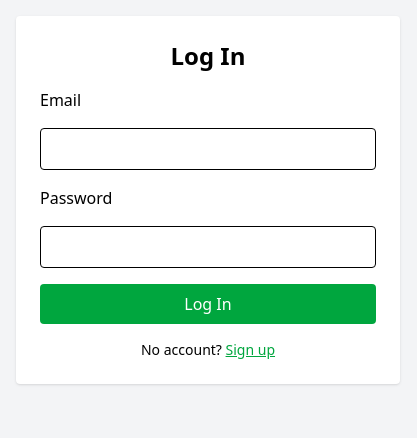
Test: auth flow › shows an error for invalid login credentials
Type "nobody@example.com" into the field with test id "auth-login-email" at (208, 149), box x1=40 y1=128 x2=376 y2=170
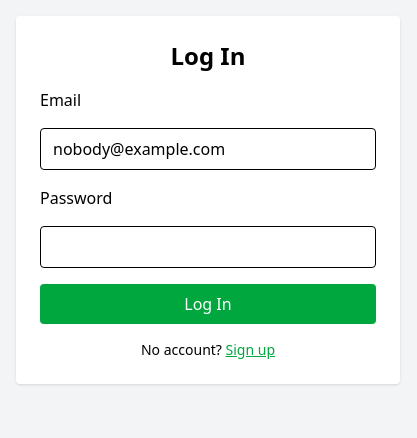
Type "wrongpass" into the password field with test id "auth-login-password" at (208, 247), box x1=40 y1=226 x2=376 y2=268
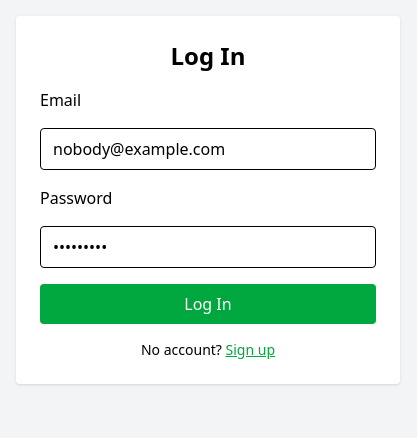
Click the button with test id "auth-login-submit" at (208, 304), box x1=40 y1=284 x2=376 y2=324
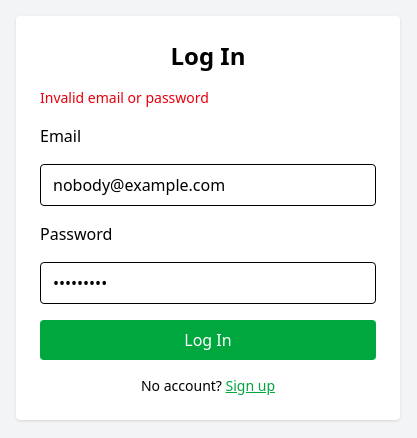
Now the text "Invalid email or password" is shown, box x1=40 y1=88 x2=209 y2=107
